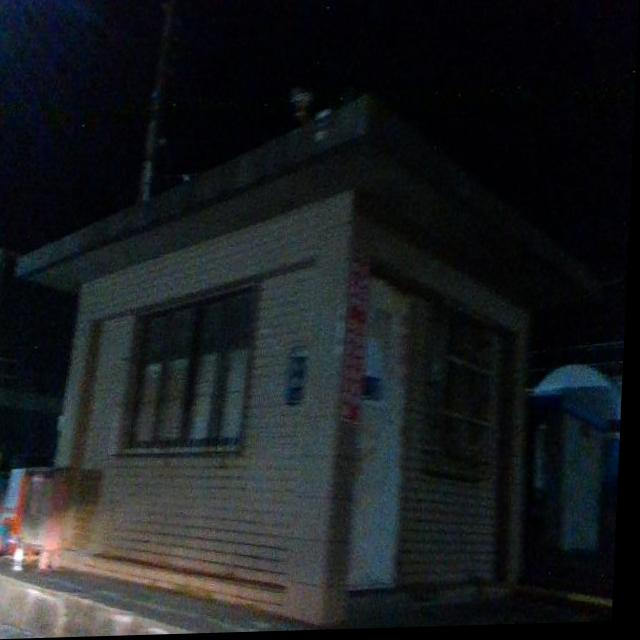pollute: (0, 446, 57, 563)
